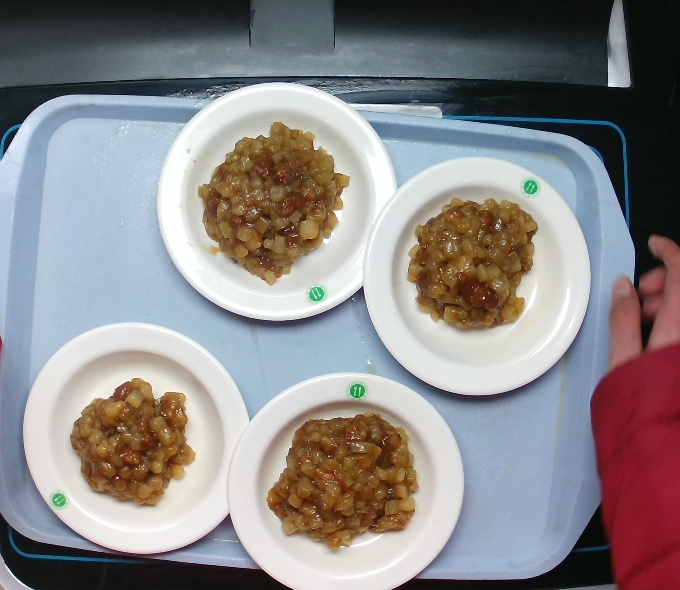wcq-RouYuan: (185, 112, 359, 282), (267, 389, 426, 557), (396, 180, 552, 343), (64, 365, 209, 511)
